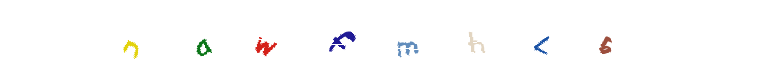5: (519, 0, 599, 80)
A: (163, 0, 243, 80)
F: (350, 0, 430, 80)
H: (355, 0, 435, 80)
L: (362, 0, 442, 80)
M: (353, 0, 433, 80)
N: (91, 0, 171, 80)
W: (224, 0, 304, 80)
